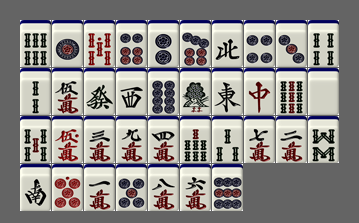0m: (52, 116, 83, 163)
0p: (52, 164, 83, 211)
0s: (84, 20, 115, 67)
1m: (84, 164, 115, 211)
1p: (52, 20, 83, 67)
1s: (180, 68, 211, 115)
1z: (212, 68, 243, 115)
2m: (276, 116, 307, 163)
2p: (148, 20, 179, 67)
2s: (20, 68, 51, 115)
2z: (20, 164, 51, 211)
3m: (84, 116, 115, 163)
3p: (276, 20, 307, 67)
3s: (212, 116, 243, 163)
3z: (116, 68, 147, 115)
4m: (148, 116, 179, 163)
4p: (244, 20, 275, 67)
4s: (308, 20, 339, 67)
4z: (212, 20, 243, 67)
5m: (52, 68, 83, 115)
5p: (116, 164, 147, 211)
5s: (20, 116, 51, 163)
5z: (308, 68, 339, 115)
6m: (180, 164, 211, 211)
6p: (116, 20, 147, 67)
6s: (20, 20, 51, 67)
6z: (84, 68, 115, 115)
7m: (244, 116, 275, 163)
7p: (180, 20, 211, 67)
7s: (180, 116, 211, 163)
7z: (244, 68, 275, 115)
8m: (148, 164, 179, 211)
8p: (148, 68, 179, 115)
8s: (308, 116, 339, 163)
9m: (116, 116, 147, 163)
9p: (212, 164, 243, 211)
9s: (276, 68, 307, 115)
